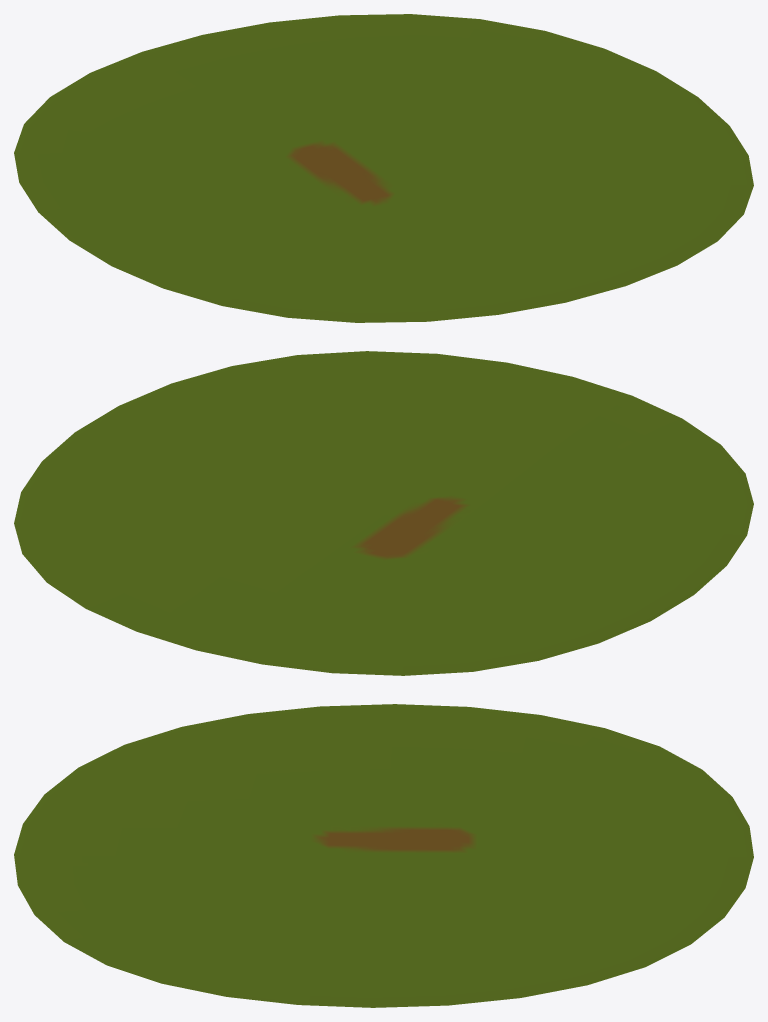
The model's file is terrain_ilha.glb.
The picture shows the model from 3 angles, top to bottom: view 1: azimuth 30°, elevation 25°; view 2: azimuth 150°, elevation 25°; view 3: azimuth 270°, elevation 25°; orthographic projection. The views are drawn at different scales.
Visible parts, largest first — view 1: terrain; view 2: terrain; view 3: terrain.
Boxes of the visible parts, box(x1,y1,x2,y2) form: terrain: box(14, 14, 753, 322); terrain: box(14, 351, 753, 675); terrain: box(14, 704, 753, 1007).
Size of the model in its own units: 335 by 1.05 by 344.
